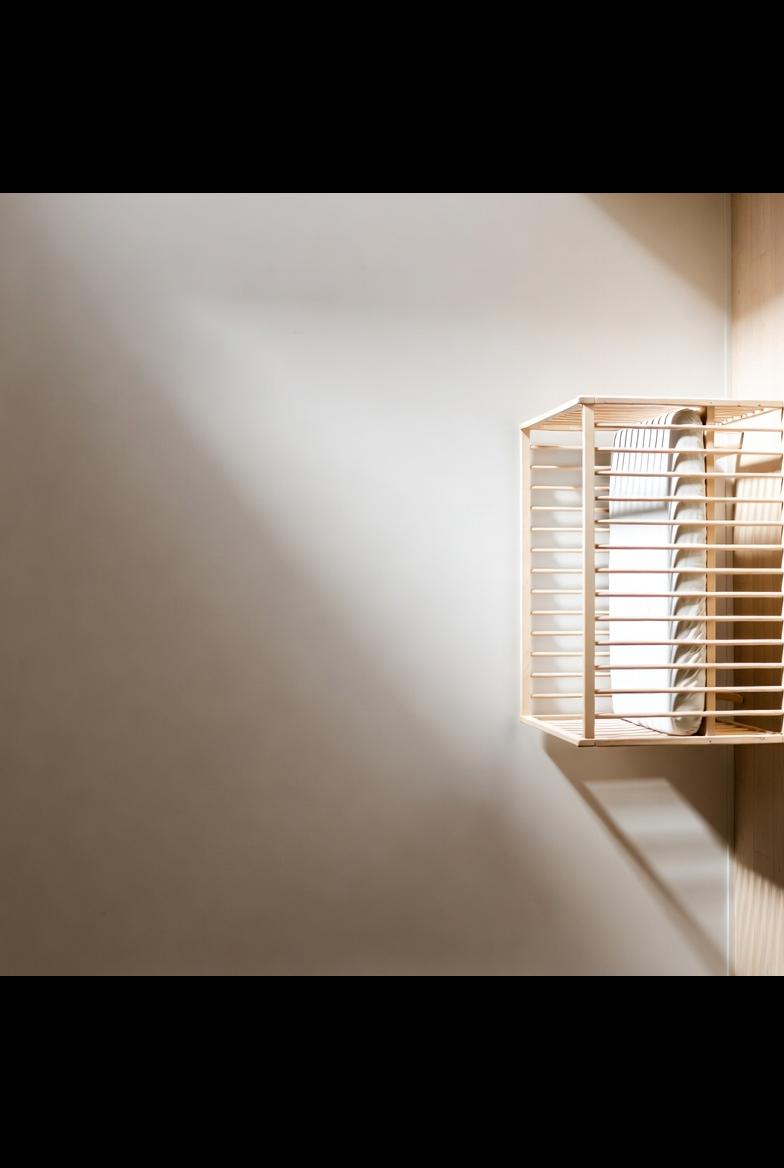crib: (521, 396, 784, 745)
